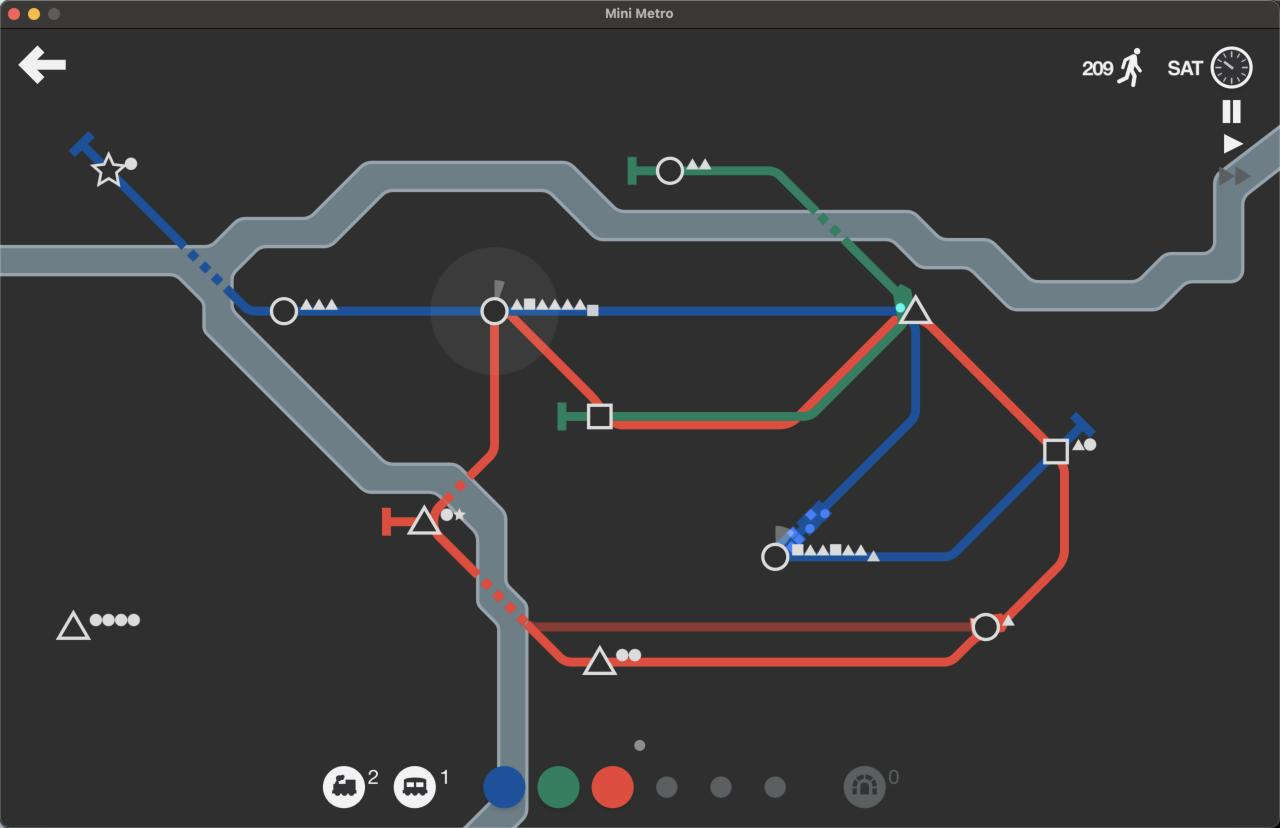CIRCLE: (970, 611, 1002, 642), (760, 541, 790, 572), (269, 296, 299, 326), (480, 296, 510, 326), (655, 156, 684, 185)
SQUARE: (586, 403, 614, 430), (1042, 438, 1069, 465)
STAR: (89, 151, 133, 187)
TRIANGLE: (55, 609, 93, 644), (896, 293, 936, 326), (406, 503, 443, 536), (582, 643, 619, 676)
